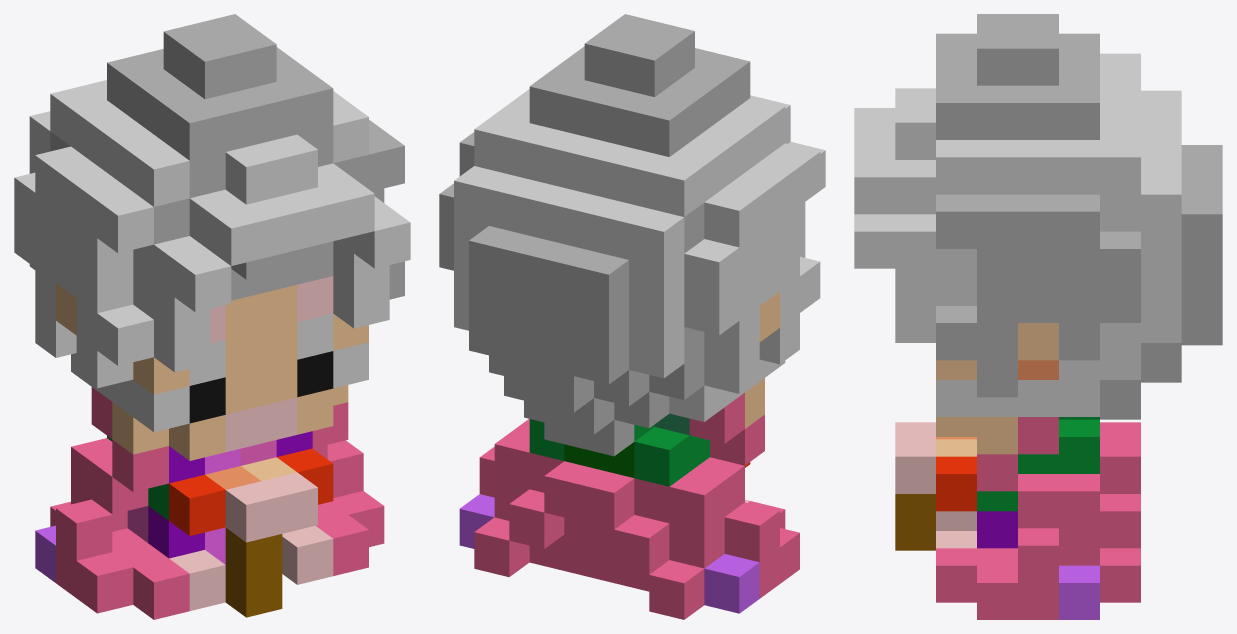
Rendered from chr_jp.fbx.
3 views of the same model, side by side, from view 1: azimuth 30°, elevation 25°; view 2: azimuth 150°, elevation 25°; view 3: azimuth 270°, elevation 25° (orthographic). The views are drawn at different scales.
Visible parts, largest first — view 1: 对象; view 2: 对象; view 3: 对象.
Boxes of the visible parts, box(x1,y1,x2,y2) form: 对象: box(14, 14, 410, 619); 对象: box(439, 14, 825, 619); 对象: box(854, 14, 1222, 619).
Bounding box in the file's own units: 8 × 14 × 9.
Materials: 1 (1 with a texture image).
